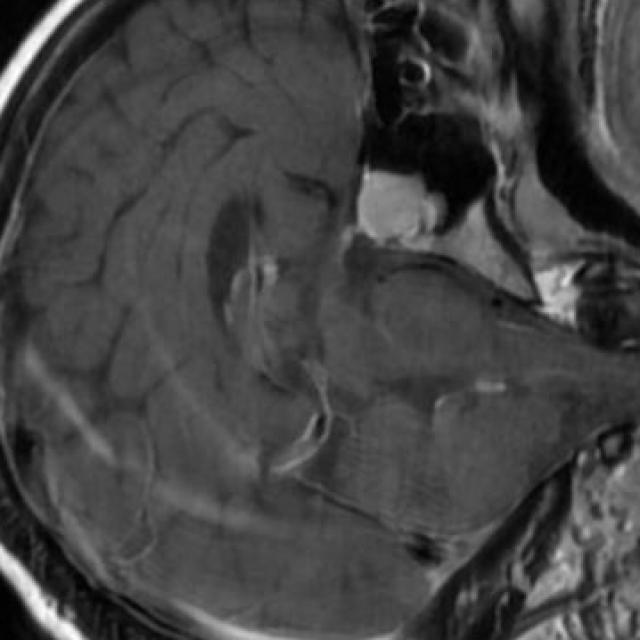pituitary: (357, 169, 437, 241)
